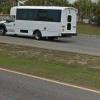Bus: (9, 2, 81, 44)
